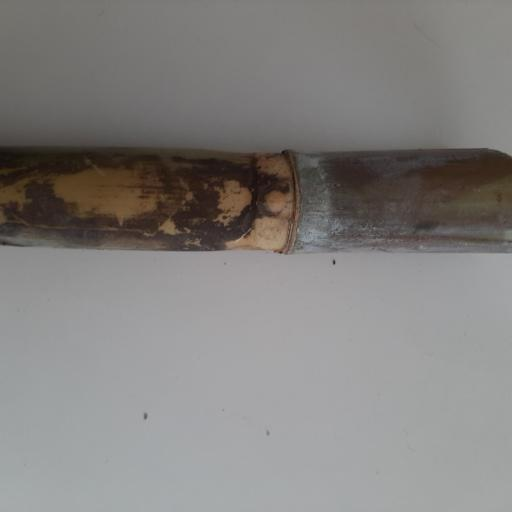Bud: (260, 187, 287, 216)
